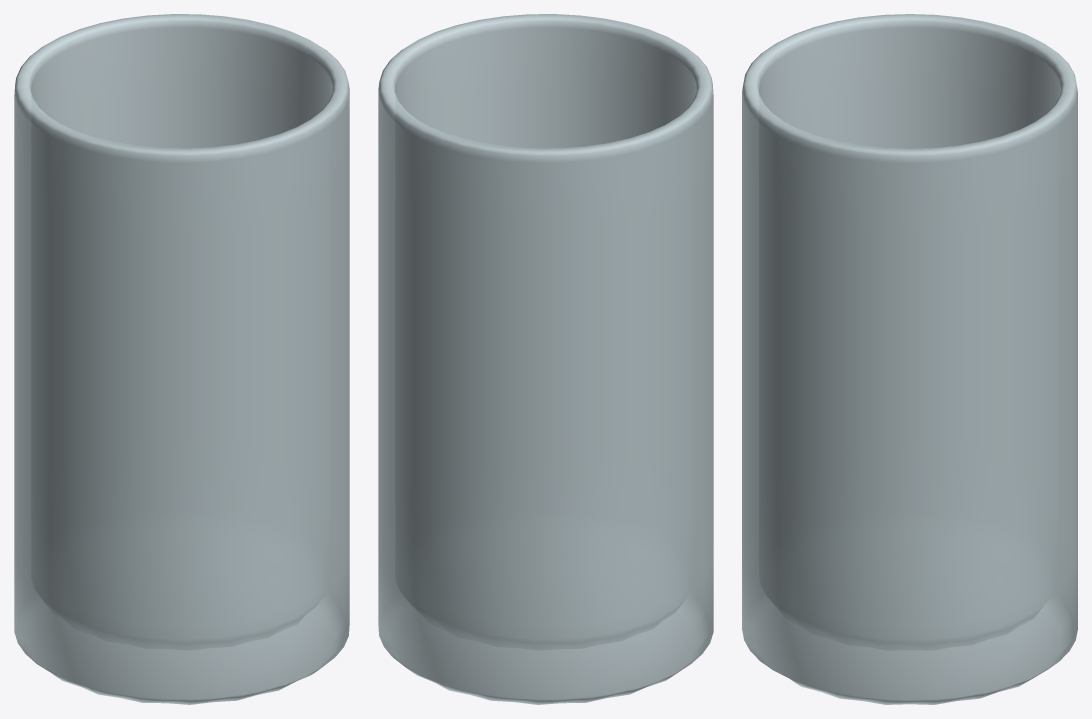
Rendered from Cup_02.fbx.
The picture shows the model from 3 angles, left to right: view 1: azimuth 30°, elevation 25°; view 2: azimuth 150°, elevation 25°; view 3: azimuth 270°, elevation 25°; orthographic projection.
Parts seen in each view (by area): view 1: TumblerCup; view 2: TumblerCup; view 3: TumblerCup.
Part boxes in pixels (left/top/right/bottom): TumblerCup: left=14, top=14, right=349, bottom=704; TumblerCup: left=378, top=14, right=713, bottom=704; TumblerCup: left=742, top=14, right=1077, bottom=704.
Size of the model in its own units: 19.76 by 36.42 by 19.76.
